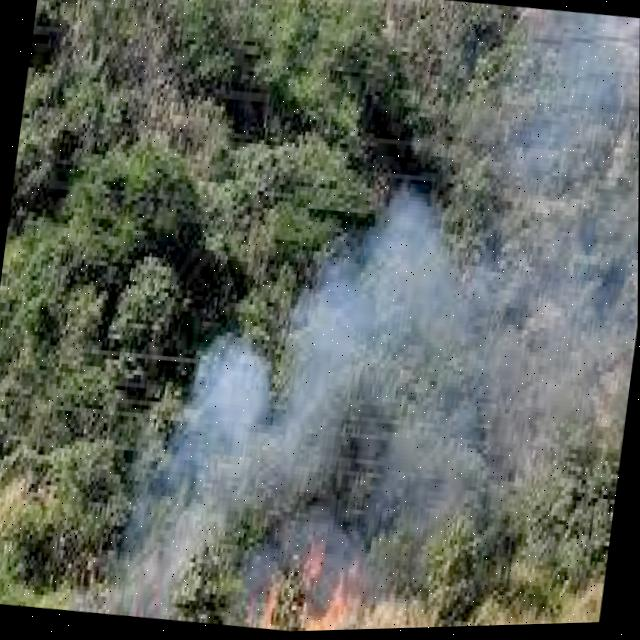smoke: (177, 351, 271, 522), (300, 271, 376, 452), (364, 209, 457, 354)
